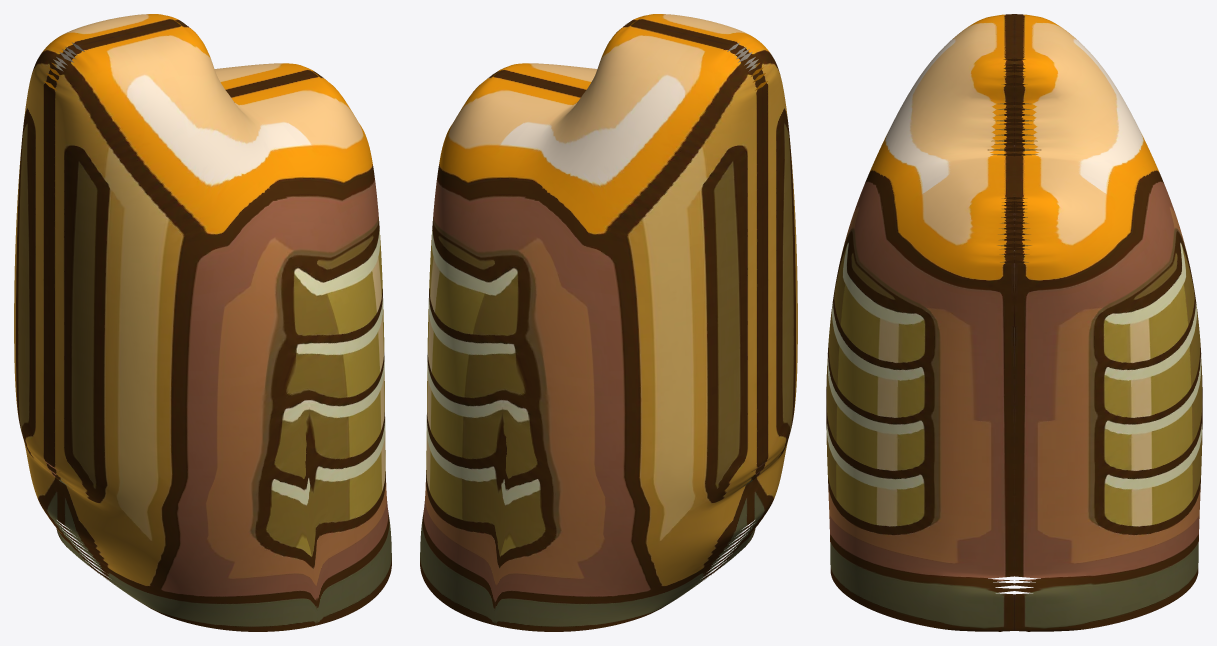
File: coil_pillar.glb
3 views of the same model, side by side, from view 1: azimuth 30°, elevation 25°; view 2: azimuth 150°, elevation 25°; view 3: azimuth 270°, elevation 25° (orthographic). The views are drawn at different scales.
Visible parts, largest first — view 1: coil_pillar; view 2: coil_pillar; view 3: coil_pillar.
Part boxes in pixels (bbox=[...]): coil_pillar: bbox=[14, 14, 391, 631]; coil_pillar: bbox=[420, 14, 797, 631]; coil_pillar: bbox=[826, 14, 1202, 631].
Bounding box in the file's own units: 0.9818 × 1.64 × 1.13.
Materials: 1 (1 with a texture image).
